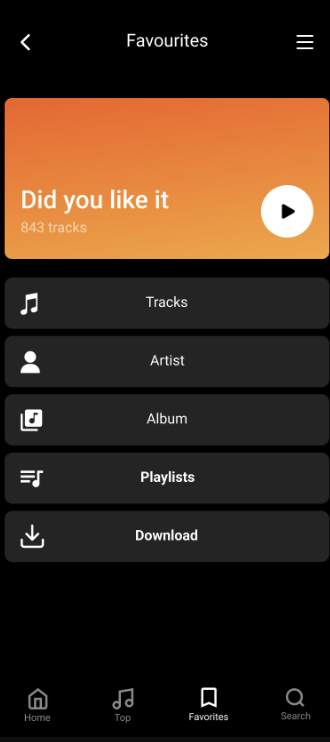BottomBar: (1, 682, 330, 742)
